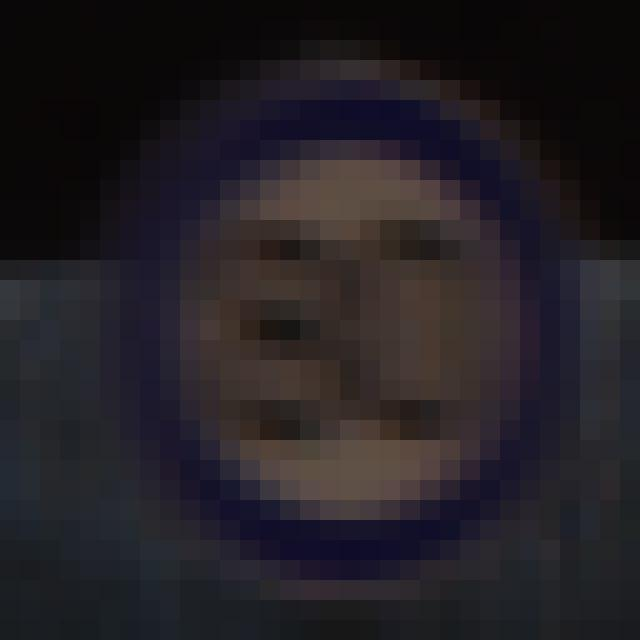SPEED-LIMIT-80: (113, 101, 565, 556)
